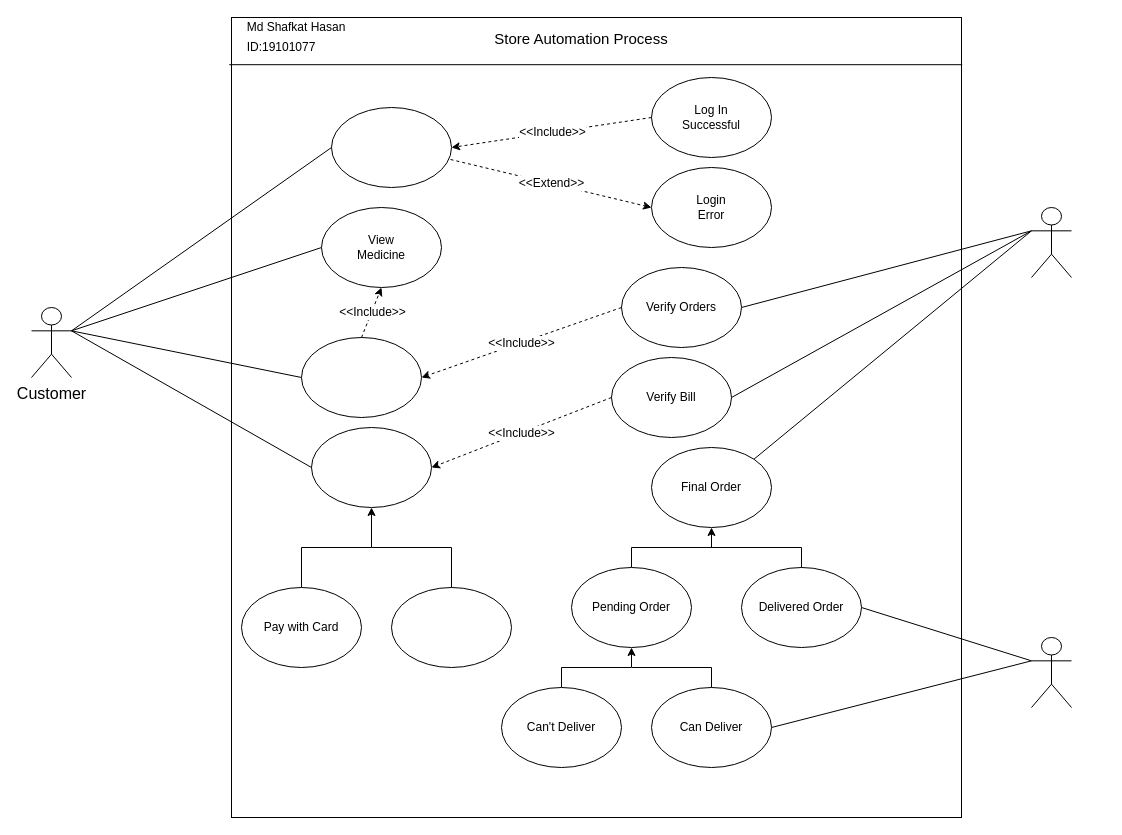
This 1122x835 diagram has some shape labels left out. Each missing label, with the centre of its shape:
Delivery man: the point at 1051,672
Order Medicine: the point at 361,377
Pay Bill: the point at 371,467
Pay with Cash: the point at 451,627
Register: the point at 391,147
Store manager: the point at 1051,242
